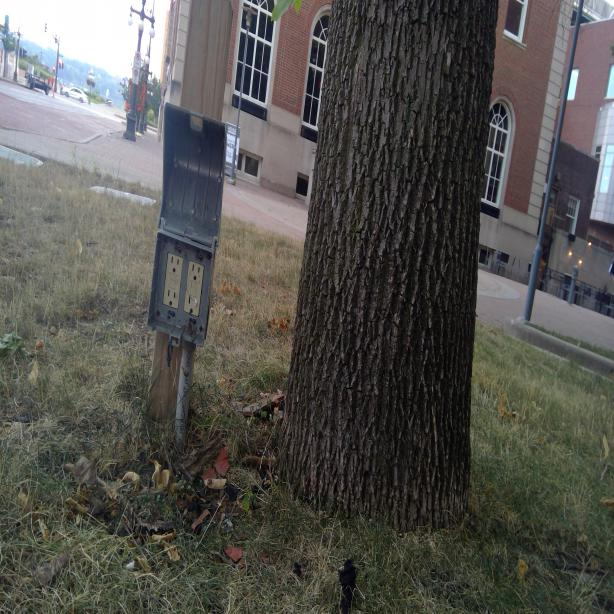typeb: (164, 285, 180, 308), (184, 293, 200, 316), (167, 254, 182, 278), (188, 261, 203, 283)
